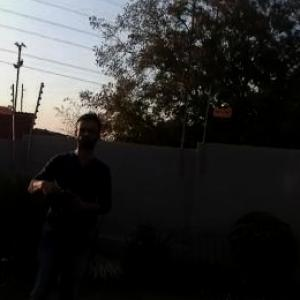follow: (14, 101, 118, 299)
